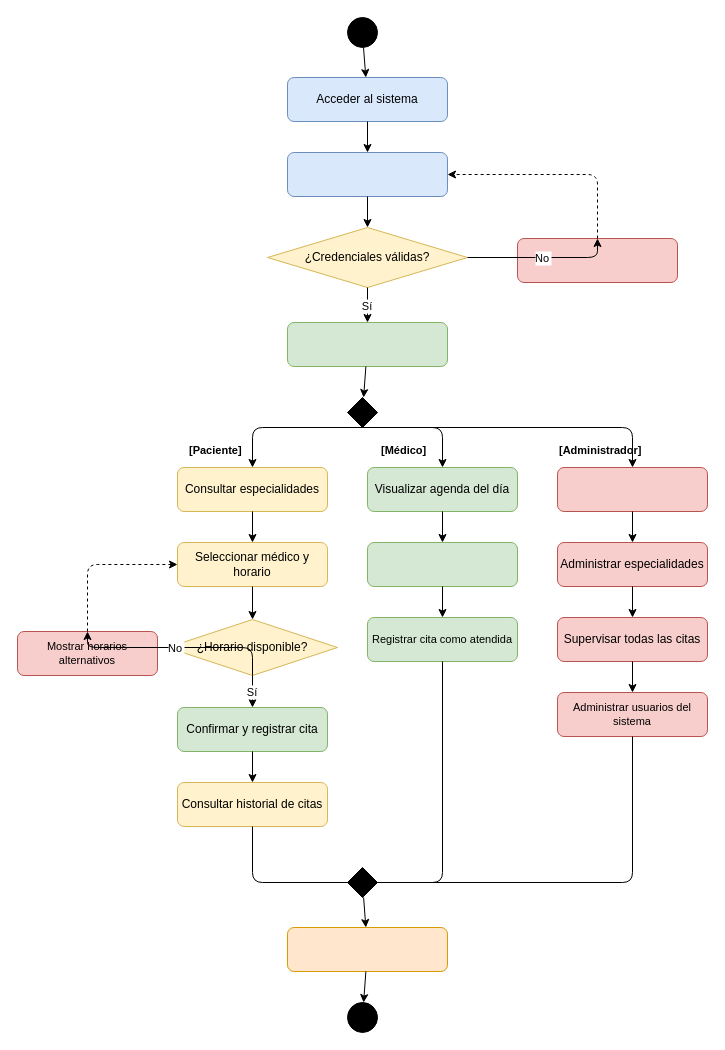
Some shapes in this 725 by 1050 pixel diagram are drawn without their labels. The box of each missing label's shape, as (x1, y1, x2, y2) in pixels:
Cerrar sesión: (286, 926, 448, 972)
Ingresar credenciales: (286, 152, 448, 196)
Mostrar error de login: (516, 238, 678, 282)
Redirigir según rol de usuario: (286, 322, 448, 366)
Registrar / editar médicos: (556, 466, 708, 512)
Ver detalle de citas programadas: (366, 542, 518, 586)
